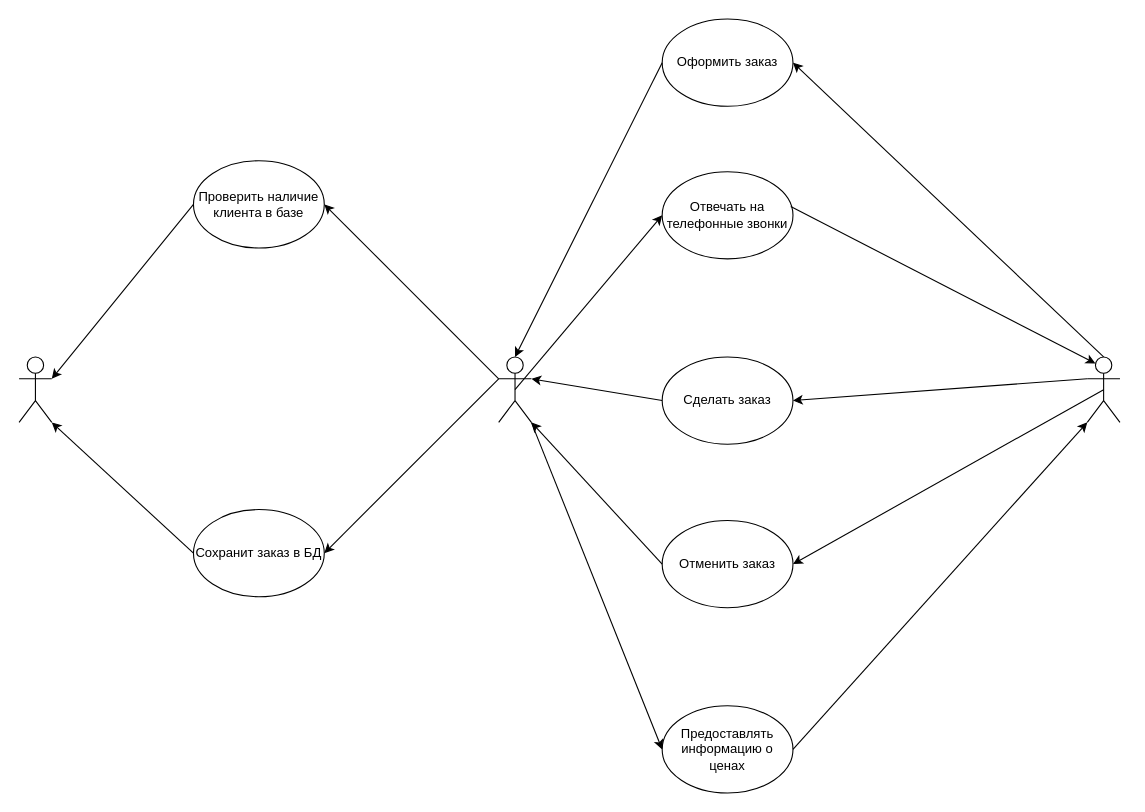
This 1145x812 diagram has some shape labels left out. The centre of each missing label's shape, as x and y in pixels:
ИС: the point at 35,389
Клиент: the point at 1103,389
Сотрудник: the point at 514,389
